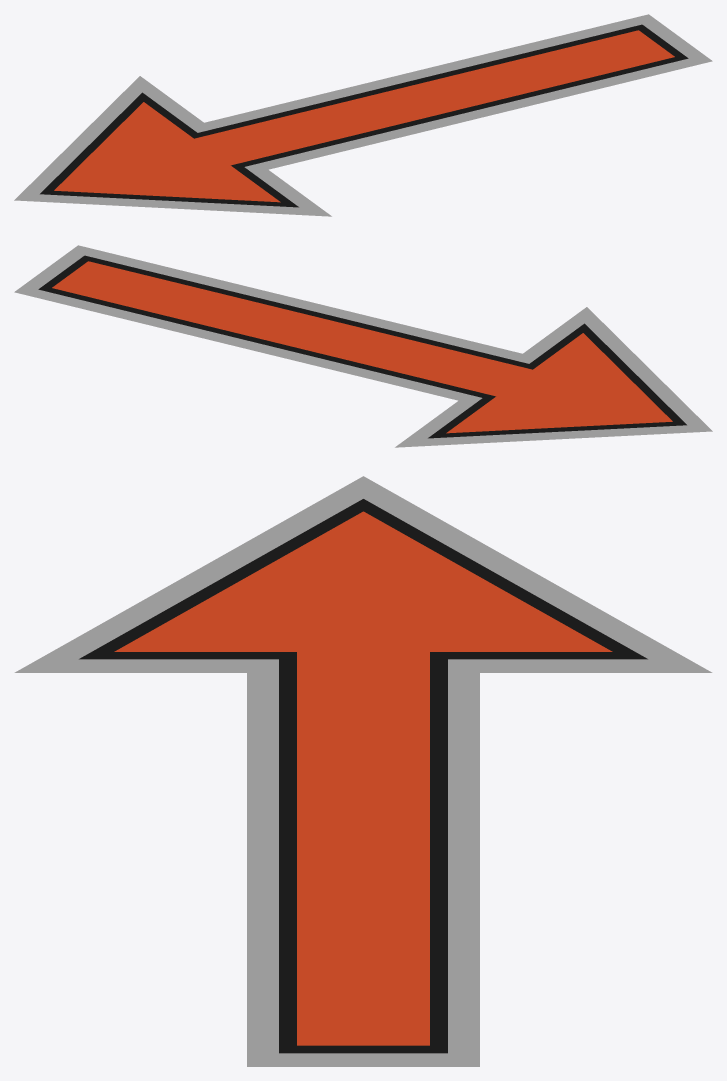
Rendered from Arrow.fbx.
3 views of the same model, one above another, from view 1: azimuth 30°, elevation 25°; view 2: azimuth 150°, elevation 25°; view 3: azimuth 270°, elevation 25° (orthographic). The views are drawn at different scales.
Parts seen in each view (by area): view 1: Plane.001; view 2: Plane.001; view 3: Plane.001.
Part boxes in pixels (box(x1,y1,x2,y2)): Plane.001: box(14, 14, 712, 216); Plane.001: box(14, 245, 712, 447); Plane.001: box(14, 476, 712, 1066).
Bounding box in the file's own units: 3 × 6 × 0.
